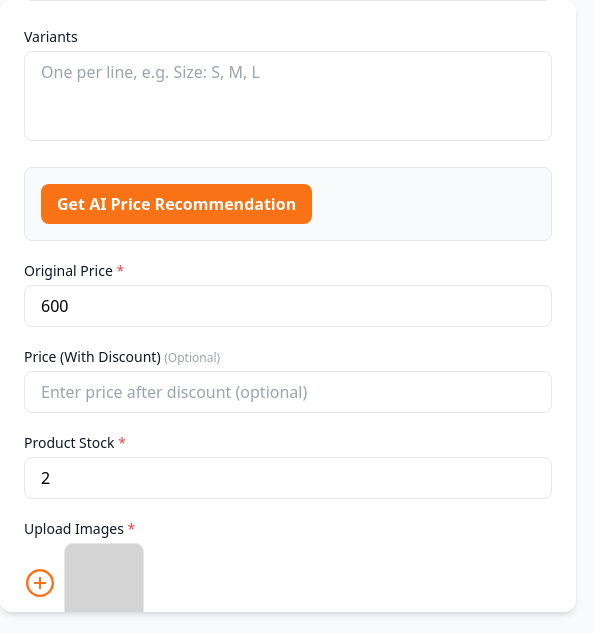
Test: loading prevents duplicates; explicit acceptance updates only discountPrice and remains manually editable
Earlier steps of the test are not shown.
Later steps or results of the test are not shown.
(page scrolled)
Step 1. Type "400" into the number field named "discountPrice" → x=288, y=392, box [24,371,552,413]
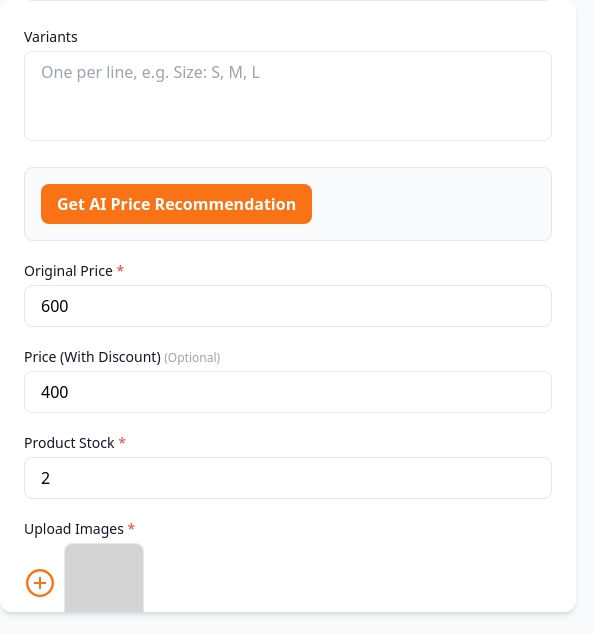
Step 2. Click the button "Get AI Price Recommendation" → x=177, y=204, box [41,184,312,224]
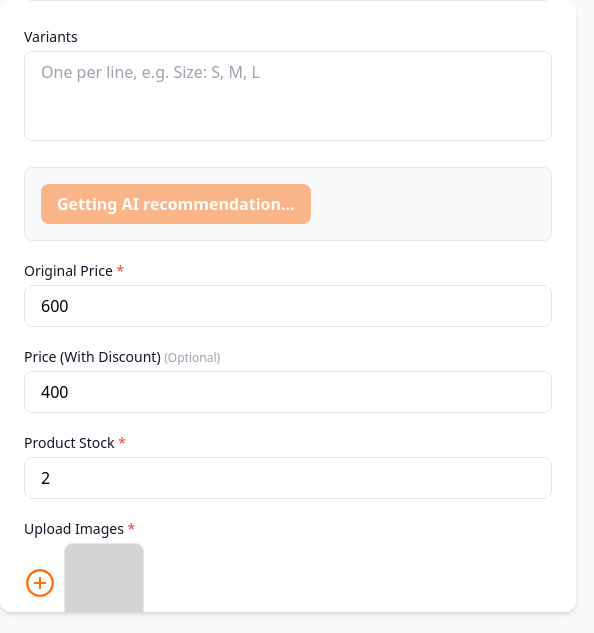
Now the button "Getting AI recommendation..." is disabled
Step 3. Click the button "Getting AI recommendation..." → x=176, y=204, box [41,184,311,224]
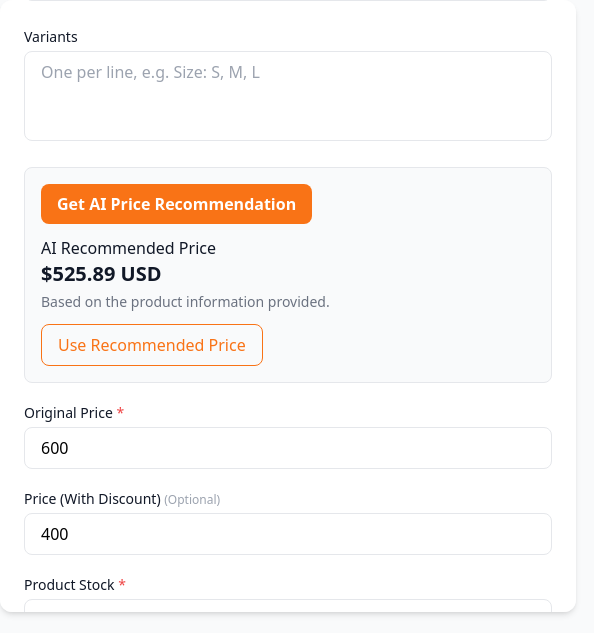
Expected: the number field named "originalPrice" below "Original Price" holds "600", [24,427,552,469]
Now the text "$525.89 USD" is shown, box [41,260,162,287]
Step 4. Click the button "Use Recommended Price" → x=152, y=345, box [41,324,263,366]
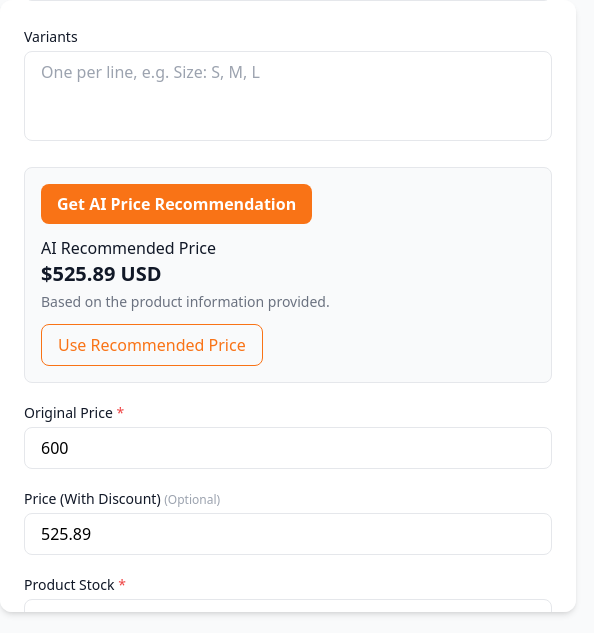
Expected: the number field named "originalPrice" below "Original Price" holds "600", [24,427,552,469]
Now the number field named "discountPrice" below "Price (With Discount)" holds "525.89", box [24,513,552,555]
